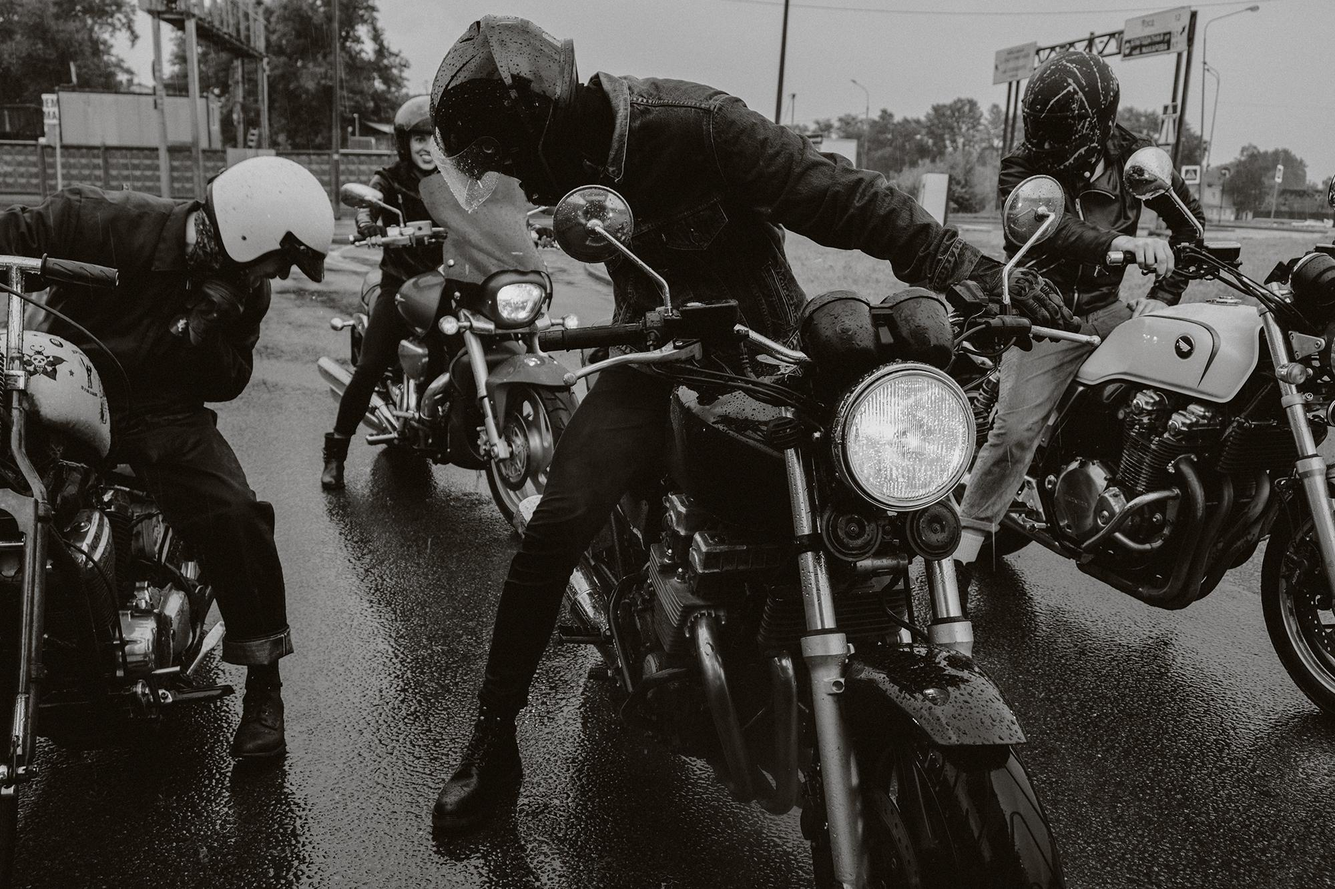helmet: (428, 12, 580, 215), (205, 154, 336, 291), (1021, 49, 1120, 176), (392, 93, 456, 178)
